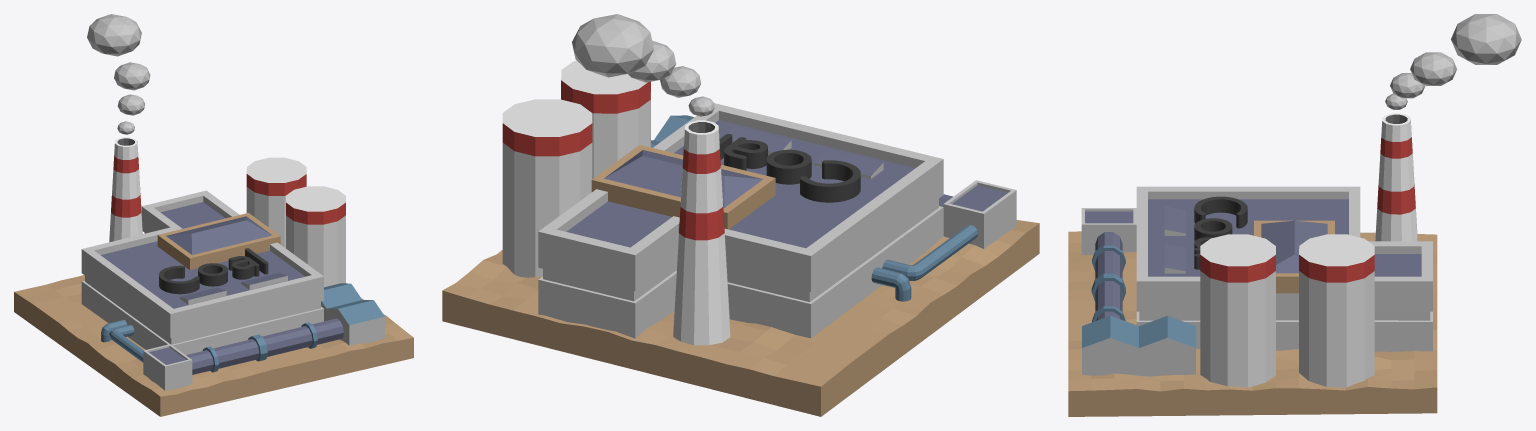
The model's file is Coal Refiney.fbx.
The picture shows the model from 3 angles, left to right: view 1: azimuth 30°, elevation 25°; view 2: azimuth 150°, elevation 25°; view 3: azimuth 270°, elevation 25°; orthographic projection. The views are drawn at different scales.
Visible parts, largest first — view 1: Factory, Text; view 2: Factory, Text; view 3: Factory, Text.
Part boxes in pixels (x1,y1,x2,y2): Factory: (14, 14, 413, 416); Text: (159, 248, 268, 294); Factory: (442, 14, 1039, 416); Text: (719, 134, 860, 202); Factory: (1068, 14, 1521, 416); Text: (1194, 196, 1247, 269).
Bounding box in the file's own units: 660 × 627 × 811.
